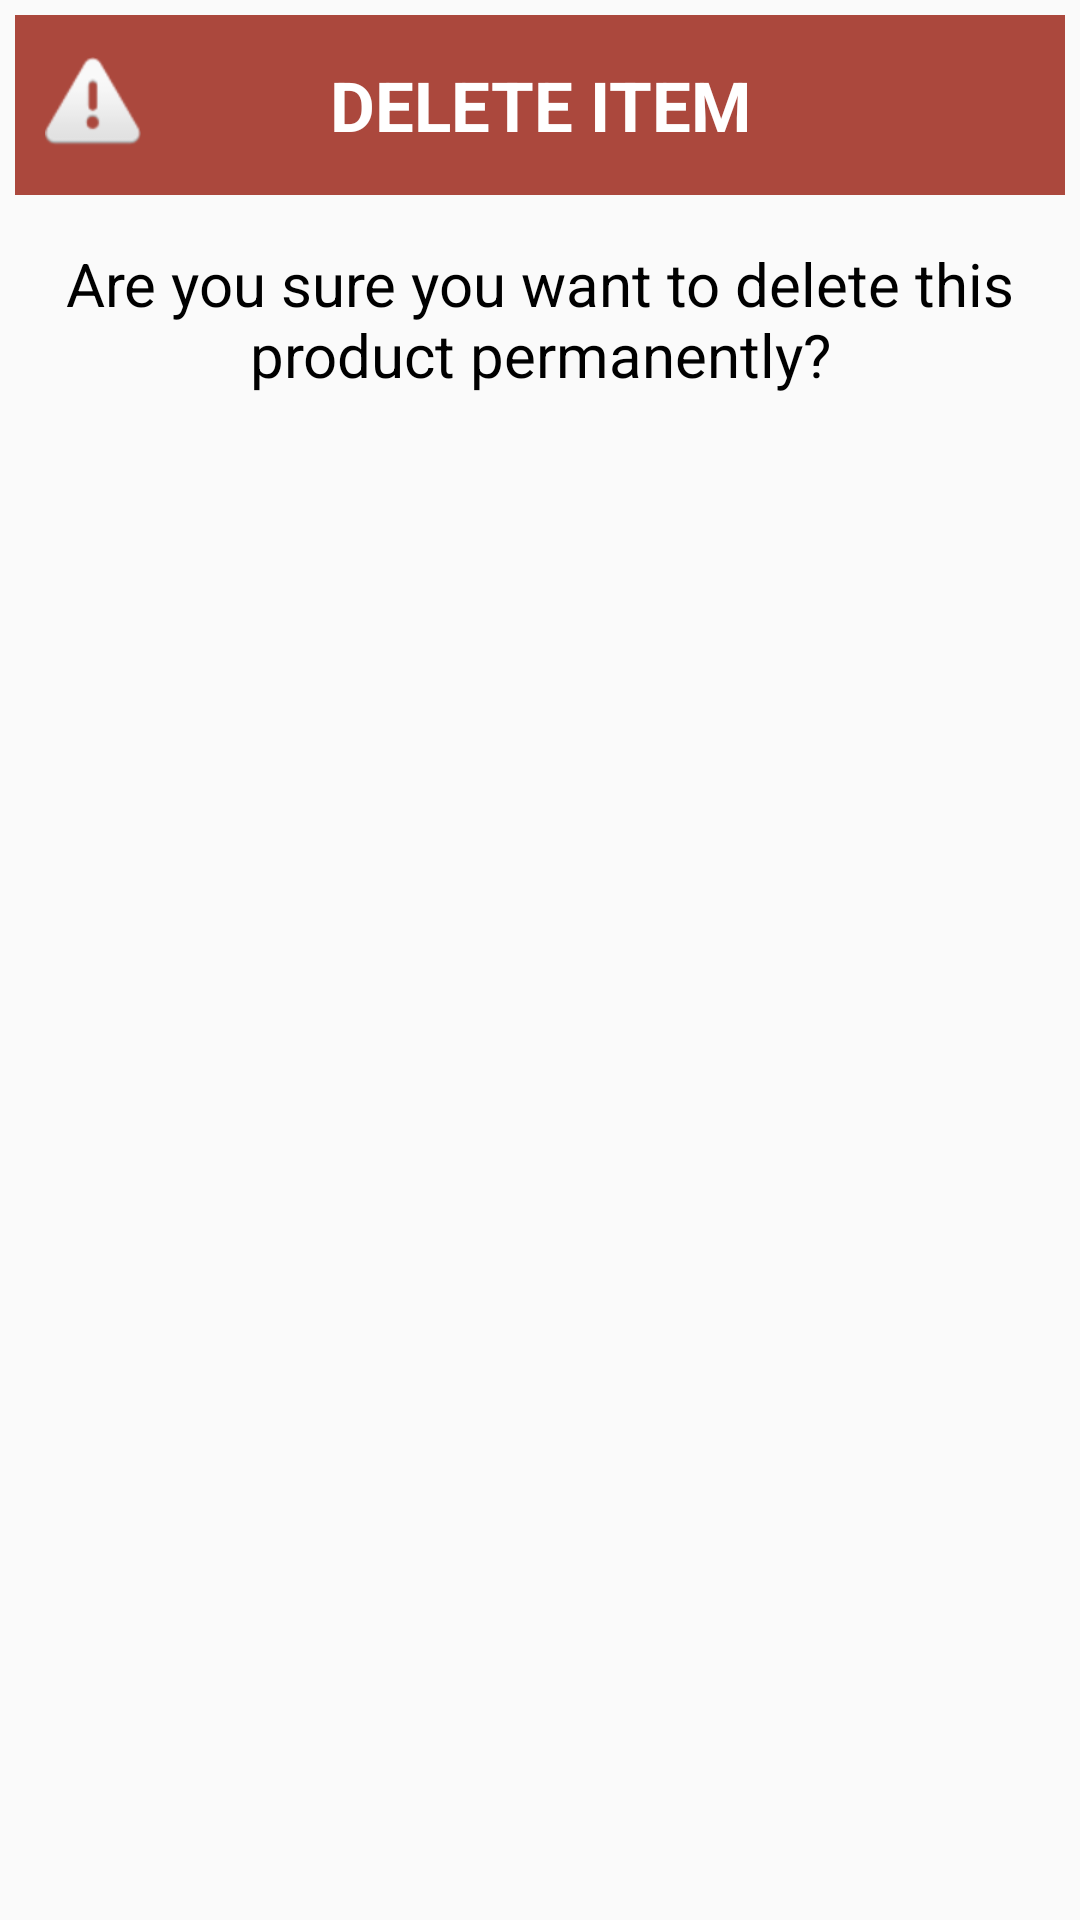

Point at icon controls on the screen. Image size 1080 x 1920, points as (x,y).
alert: (93,100)
